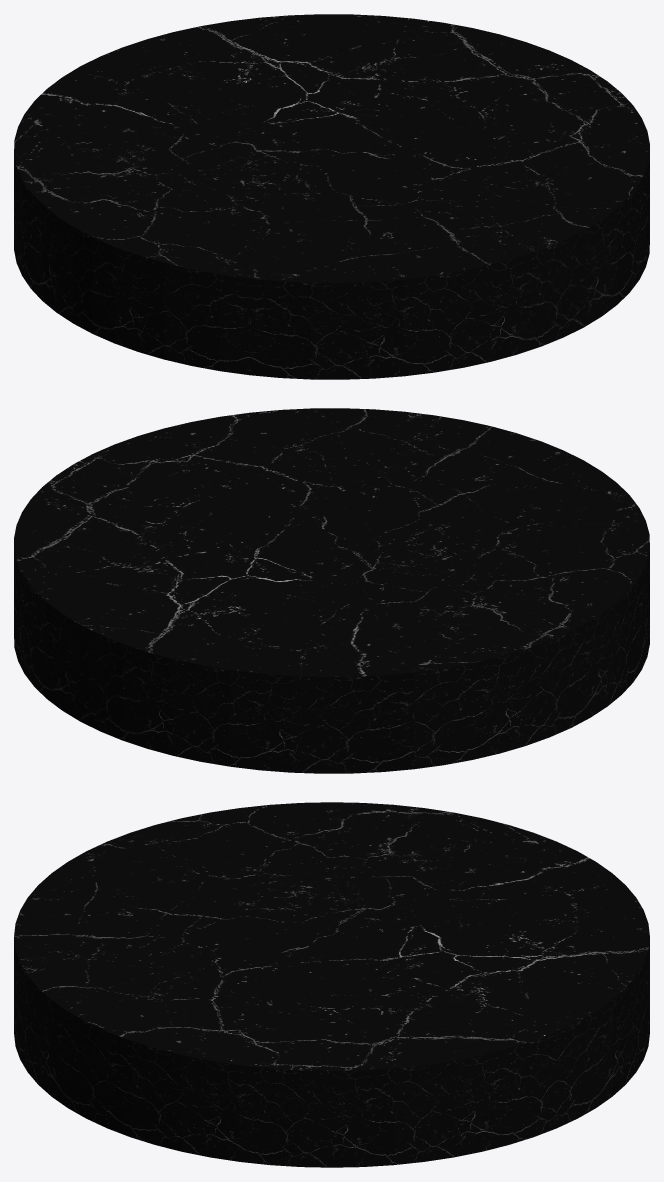
File: cylinder_black_jpg.dae
The picture shows the model from 3 angles, top to bottom: view 1: azimuth 30°, elevation 25°; view 2: azimuth 150°, elevation 25°; view 3: azimuth 270°, elevation 25°; orthographic projection.
Parts seen in each view (by area): view 1: Draw; view 2: Draw; view 3: Draw.
Boxes of the visible parts, box(x1,y1,x2,y2) form: Draw: box(14, 14, 649, 379); Draw: box(14, 408, 649, 773); Draw: box(14, 802, 649, 1167).
Size of what is drawn, in the model's own units: 5.96 by 5.96 by 1.
Materials: 2 (2 with a texture image).
